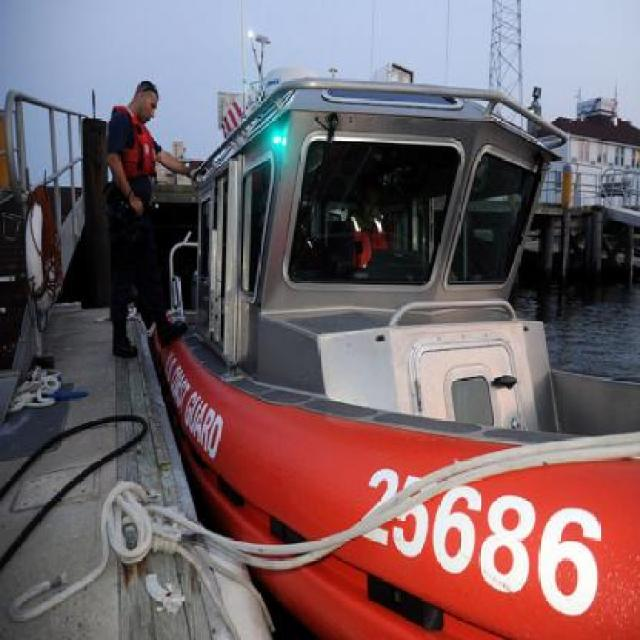ship: (147, 79, 638, 635)
